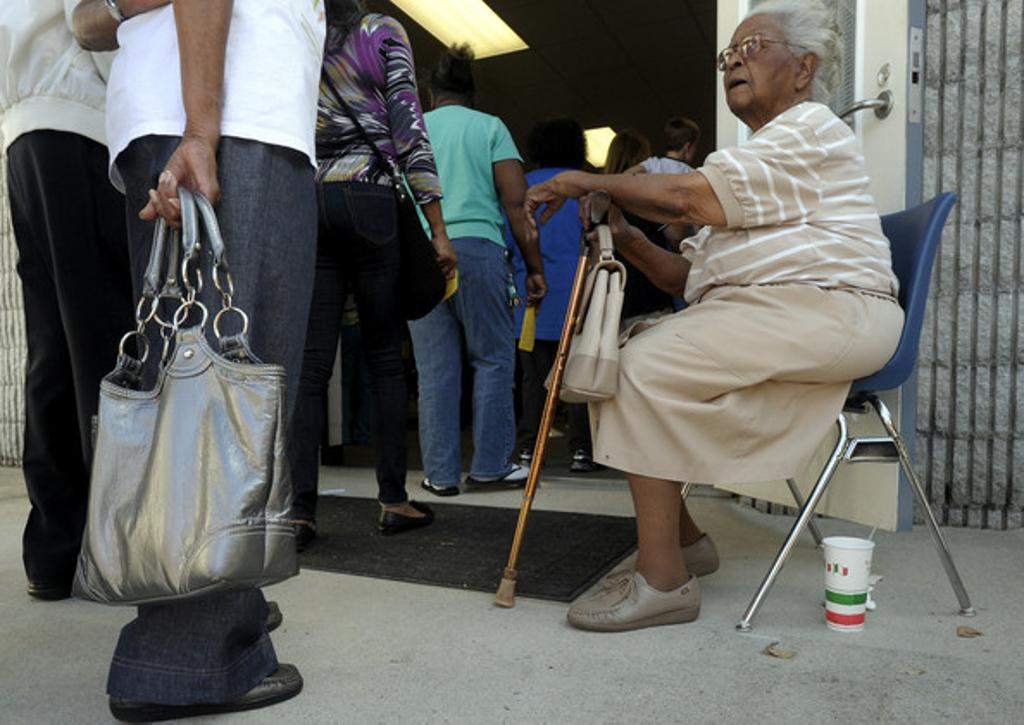face: (725, 17, 799, 111)
